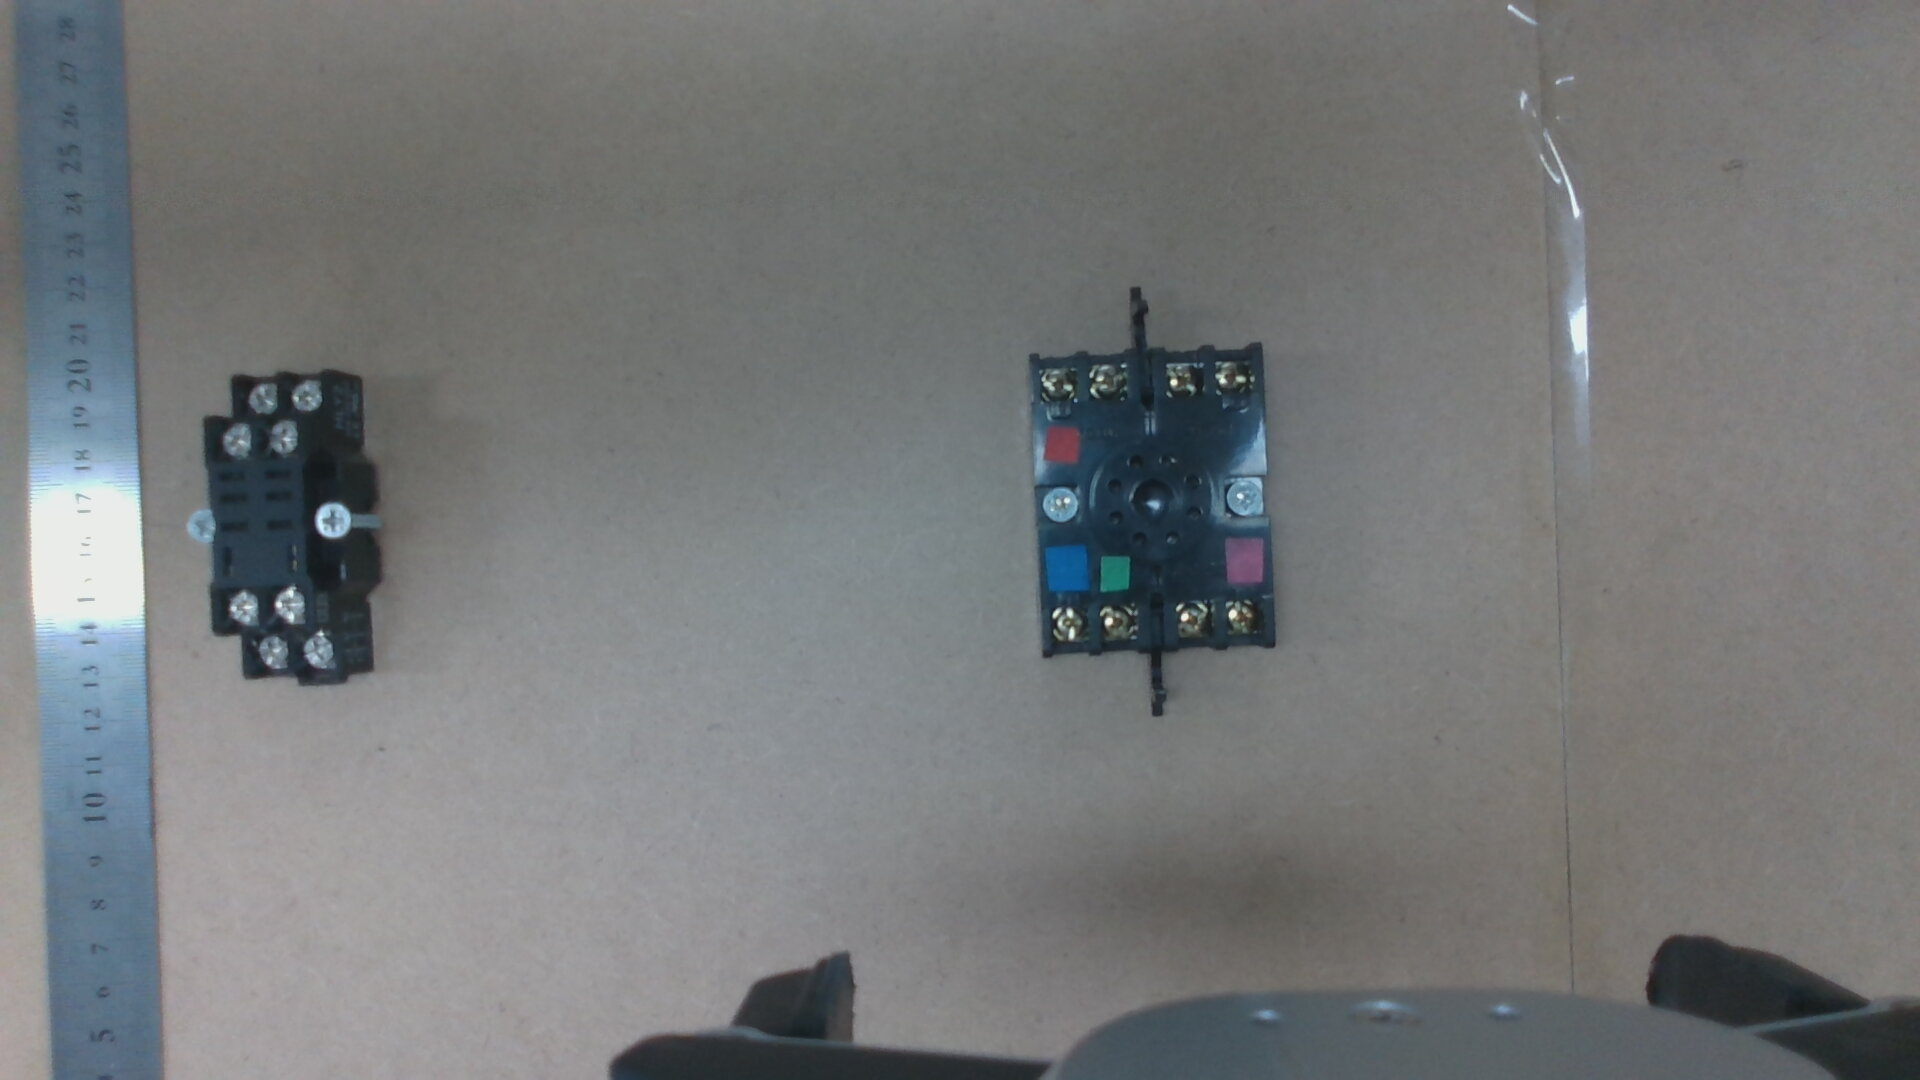timer 2: (1226, 601, 1255, 633)
timer 6: (1040, 368, 1076, 397)
timer 7: (1051, 607, 1087, 640)
timer 8: (1101, 607, 1134, 637)
